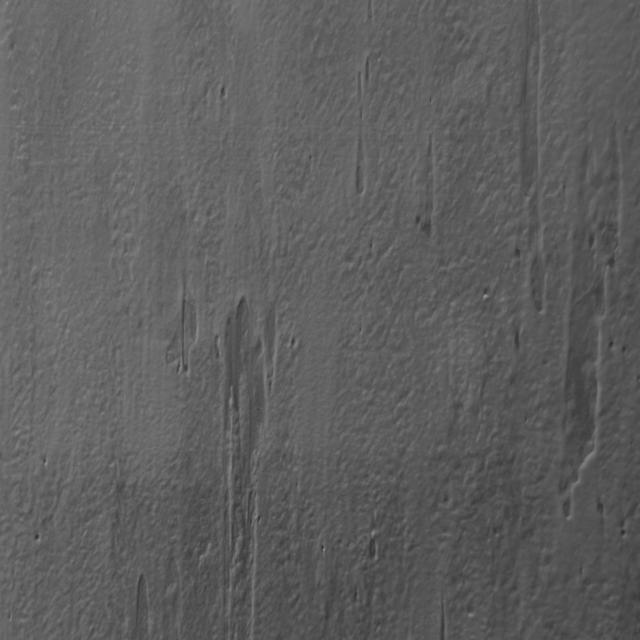pin holes: (220, 85, 230, 102), (31, 530, 42, 544), (34, 533, 44, 546)
